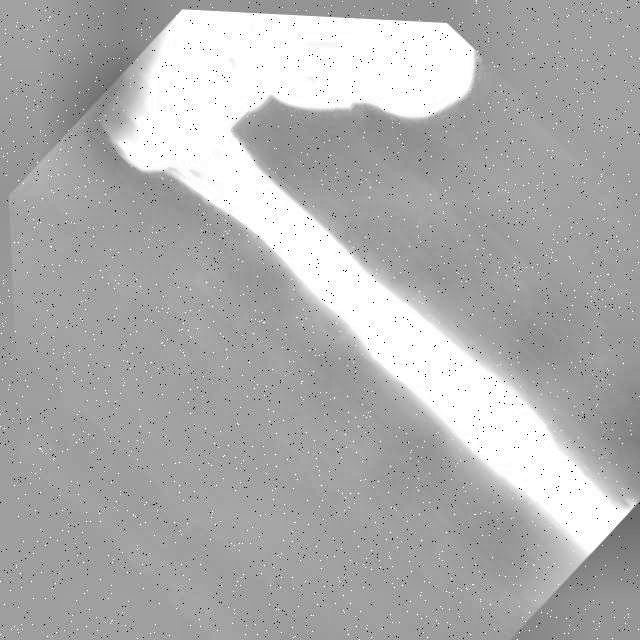Fire: (111, 54, 640, 577)
